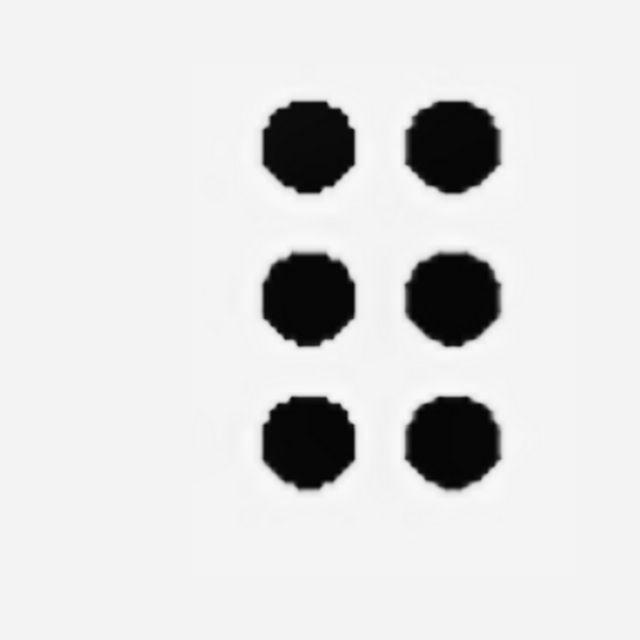mahal: (259, 97, 505, 491)
